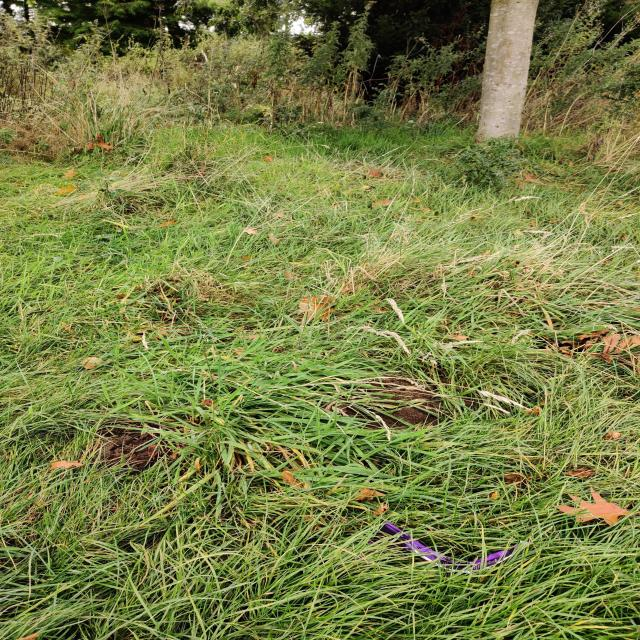litter: (358, 518, 541, 580)
